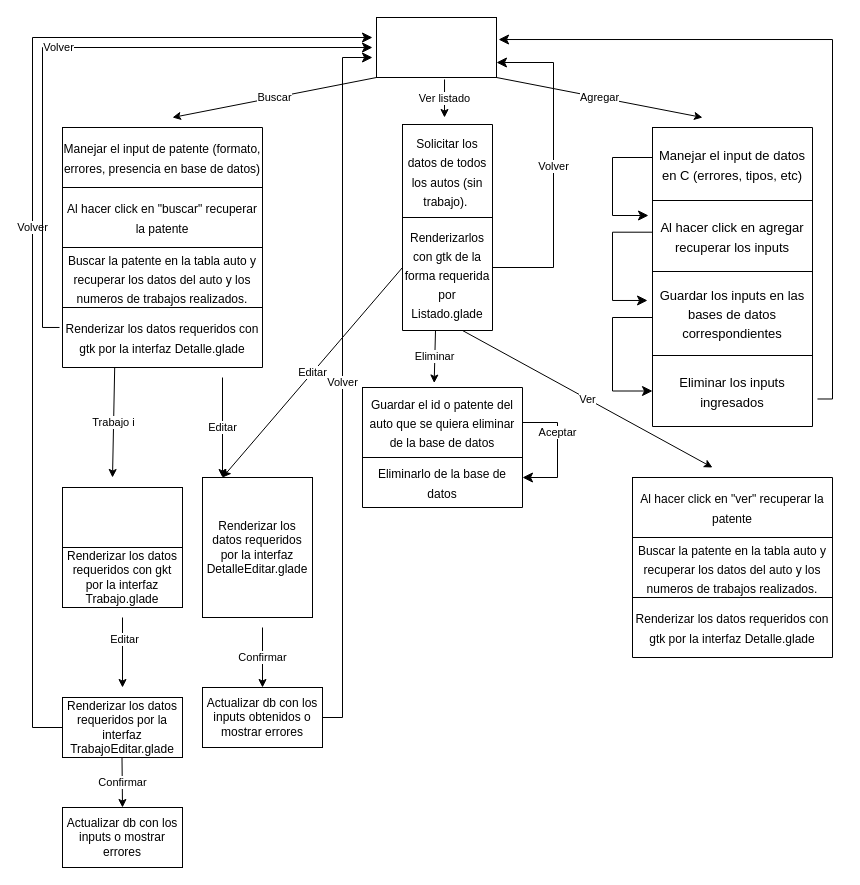
Image size: 860x885. Some labels were removed from this diagram. Here are the shapes that lost their labels. From the top down, the box of each, then its label:
(376, 16, 496, 78): Interfaz Principal.glade
(62, 486, 182, 548): Recuperar los datos del trabajo i del auto j
